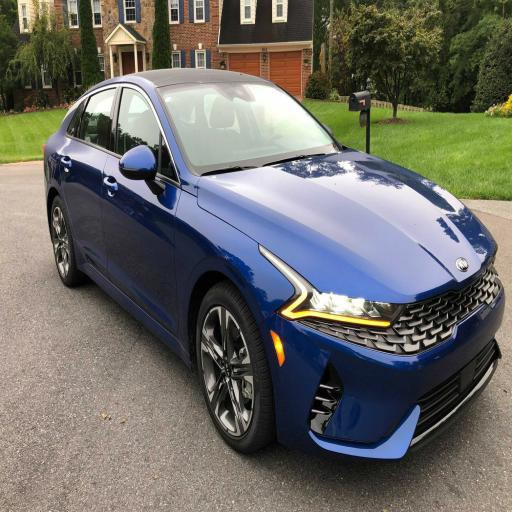Sedan-sDLz: (44, 69, 504, 459)
